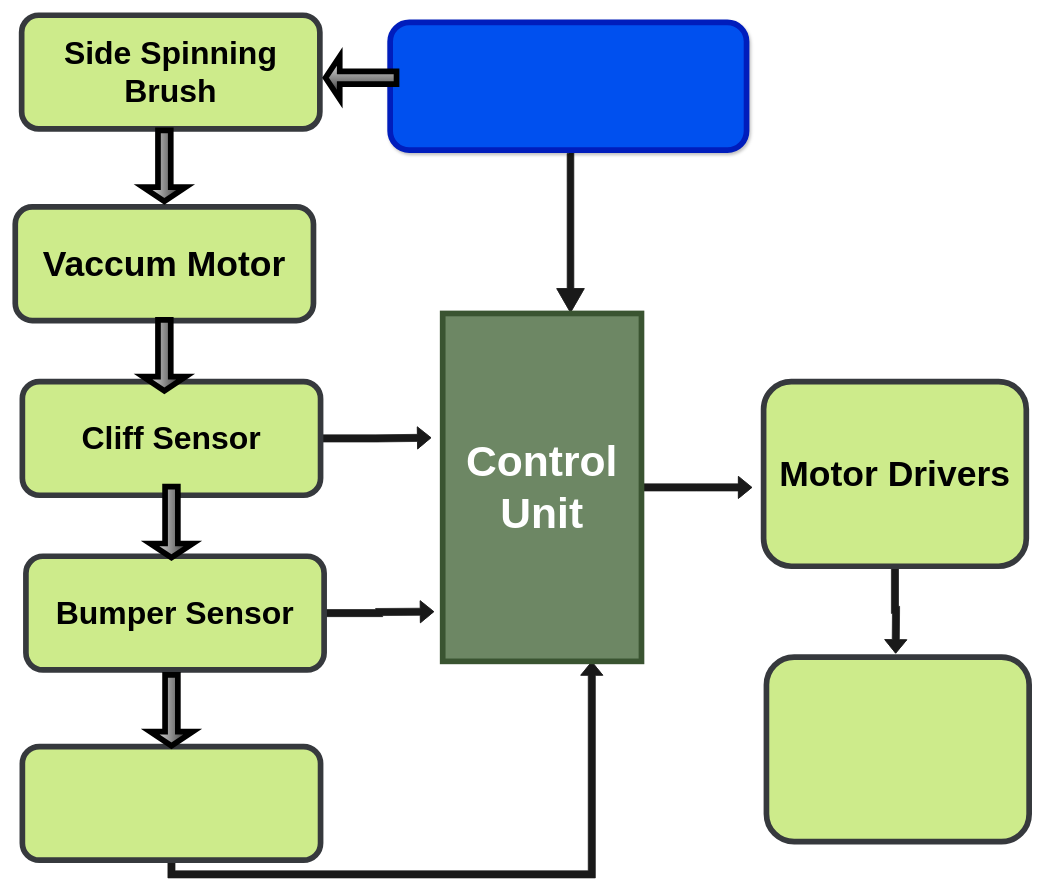
This 1044x890 diagram has some shape labels left out. The centre of each missing label's shape, as x and y in pixels:
"Power Supply (Battery)" belongs at pixel 568 87.
"Wheel Motor Drivers" belongs at pixel 897 749.
"Wireless Receiver" belongs at pixel 171 803.
